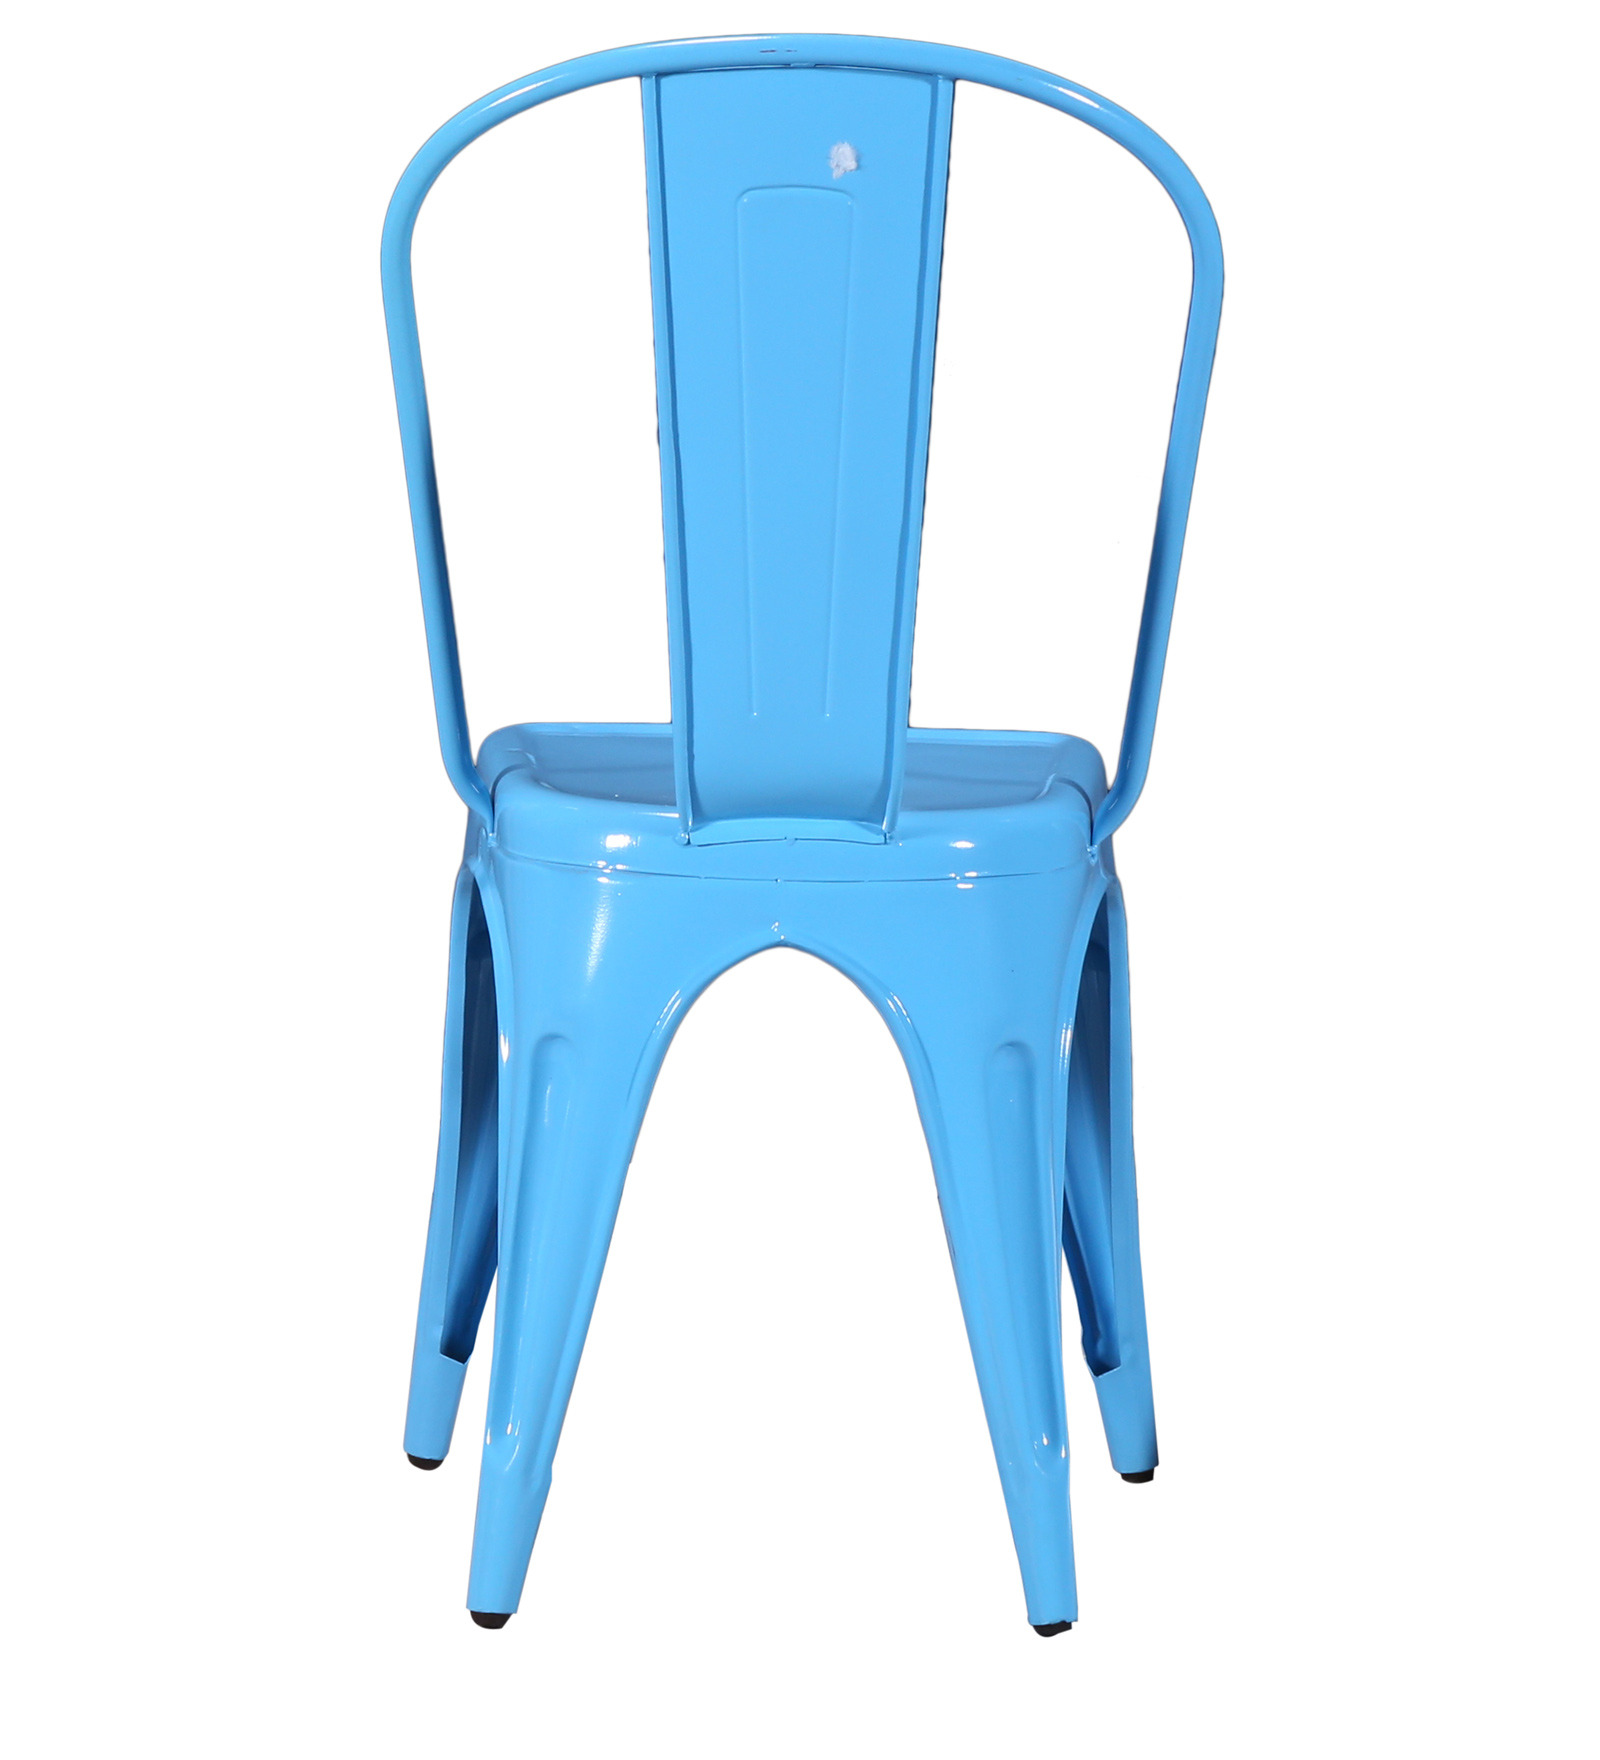Ekati Metal Chair in Blue Color by Bohemiana: (303, 12, 1274, 1696)
